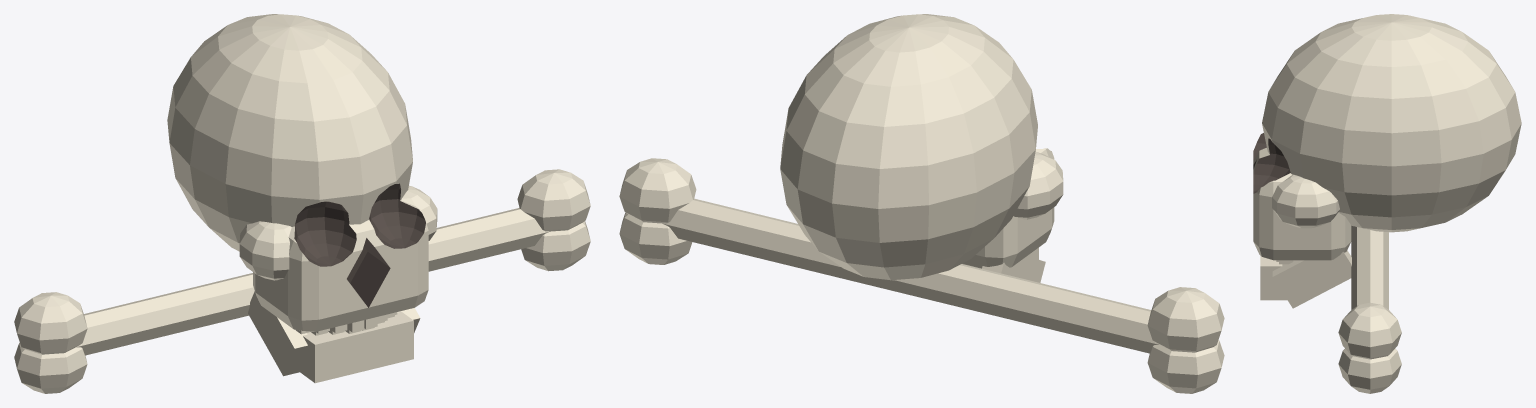
The model's file is calavera.glb.
3 views of the same model, side by side, from view 1: azimuth 30°, elevation 25°; view 2: azimuth 150°, elevation 25°; view 3: azimuth 270°, elevation 25° (orthographic). The views are drawn at different scales.
Visible parts, largest first — view 1: calavera, hueso; view 2: calavera, hueso; view 3: calavera, hueso.
Boxes of the visible parts, x1,y1,x2,y2 form: calavera: (167,14,437,383); hueso: (14,169,590,393); calavera: (780,14,1063,282); hueso: (619,158,1224,393); calavera: (1253,14,1521,308); hueso: (1338,225,1401,393).
Size of the model in its own units: 0.404 by 0.1981 by 0.186.
